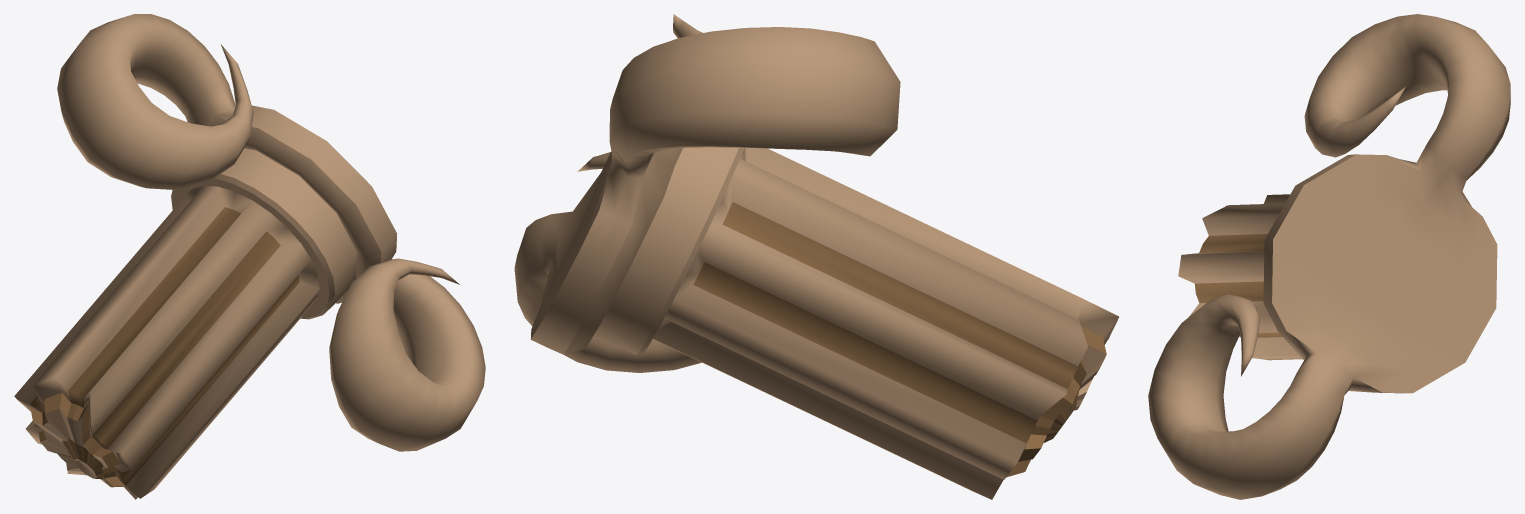
File: Broken_Pillar_Top_Var_1.fbx
3 views of the same model, side by side, from view 1: azimuth 30°, elevation 25°; view 2: azimuth 150°, elevation 25°; view 3: azimuth 270°, elevation 25° (orthographic). The views are drawn at different scales.
Visible parts, largest first — view 1: Pillar_Top; view 2: Pillar_Top; view 3: Pillar_Top.
Boxes of the visible parts, x1,y1,x2,y2 form: Pillar_Top: (14,14,485,499); Pillar_Top: (514,14,1118,499); Pillar_Top: (1148,14,1510,499).
Size of the model in its own units: 399 by 295 by 338.
